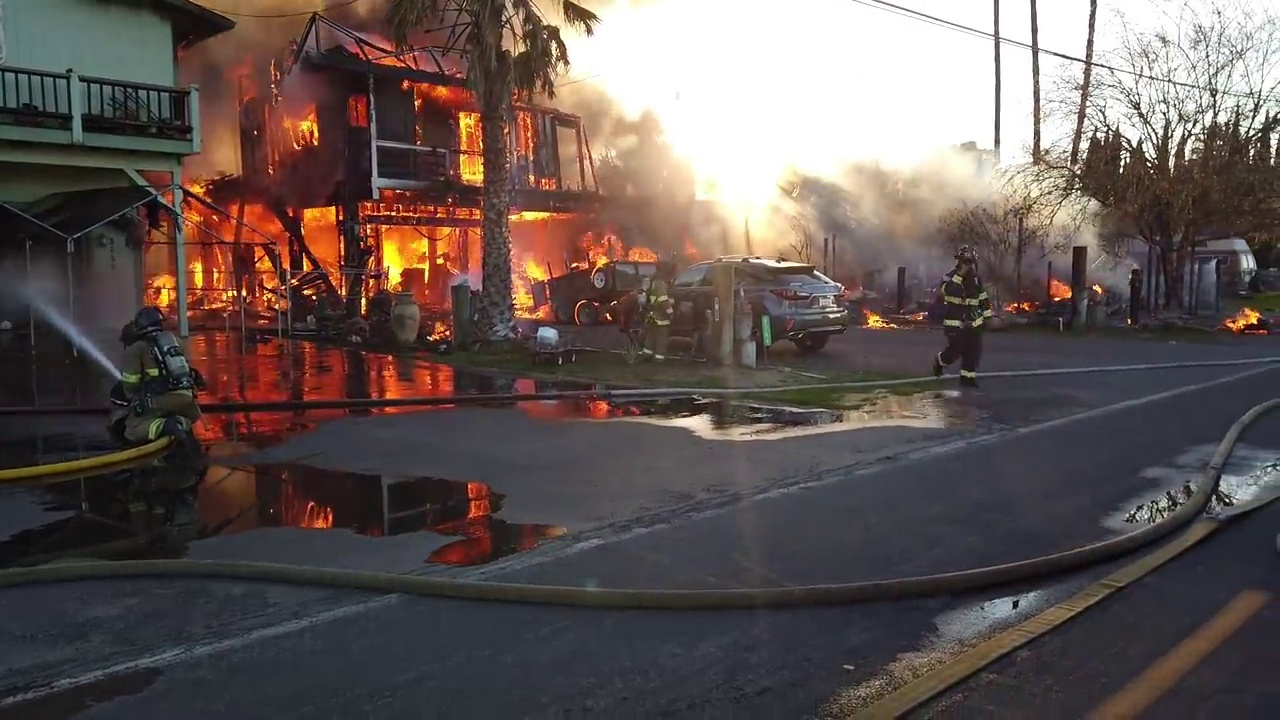fire: (146, 87, 650, 333), (574, 230, 658, 272), (279, 98, 322, 151), (1221, 307, 1263, 330), (860, 308, 908, 326), (534, 166, 559, 188), (1048, 278, 1072, 299), (1005, 301, 1033, 308), (1090, 283, 1102, 294), (1124, 316, 1133, 323)
smoke: (786, 142, 1107, 273), (559, 38, 751, 242), (329, 3, 469, 50), (185, 36, 293, 86), (194, 96, 240, 170), (216, 1, 308, 36), (264, 65, 340, 107)
